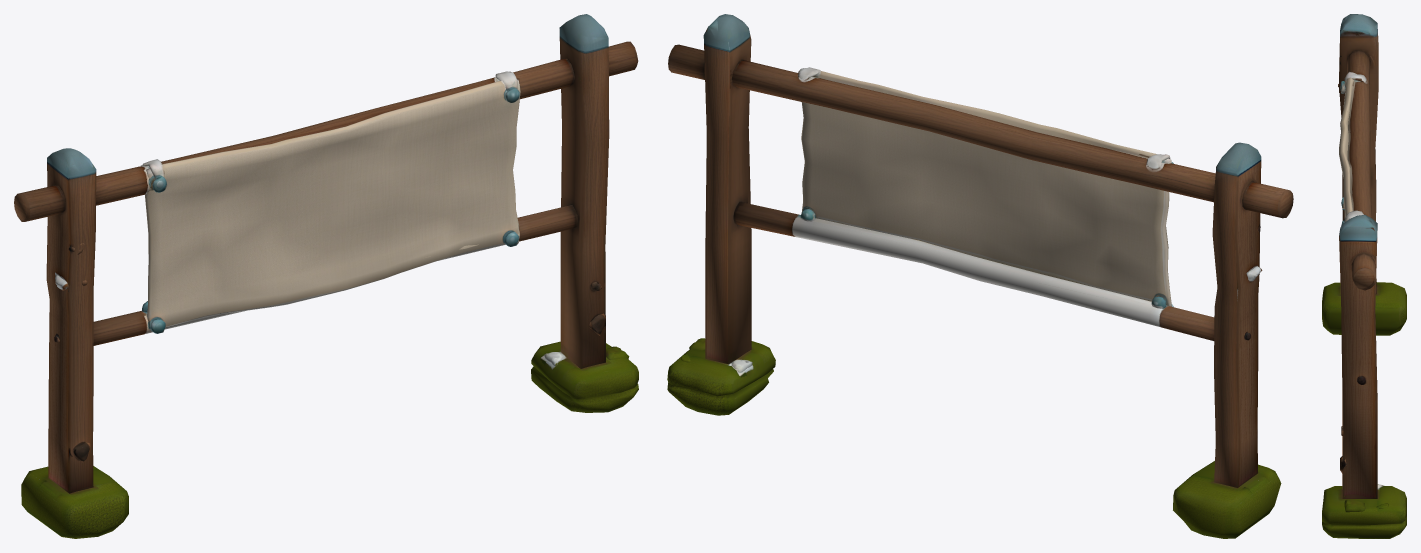
Rendered from prop_banner.glb.
3 renders of one model, left to right at view 1: azimuth 30°, elevation 25°; view 2: azimuth 150°, elevation 25°; view 3: azimuth 270°, elevation 25°, orthographic. The views are drawn at different scales.
Parts seen in each view (by area): view 1: tripo_node_c5191c7a-725b-48ca-9b77-4d0ac44a5dd6; view 2: tripo_node_c5191c7a-725b-48ca-9b77-4d0ac44a5dd6; view 3: tripo_node_c5191c7a-725b-48ca-9b77-4d0ac44a5dd6.
Part boxes in pixels (left/top/right/bottom): tripo_node_c5191c7a-725b-48ca-9b77-4d0ac44a5dd6: left=14, top=14, right=638, bottom=538; tripo_node_c5191c7a-725b-48ca-9b77-4d0ac44a5dd6: left=667, top=14, right=1293, bottom=538; tripo_node_c5191c7a-725b-48ca-9b77-4d0ac44a5dd6: left=1322, top=14, right=1406, bottom=538.
Bounding box in the file's own units: 0.998 × 0.5918 × 0.1465.
Materials: 1 (1 with a texture image).
